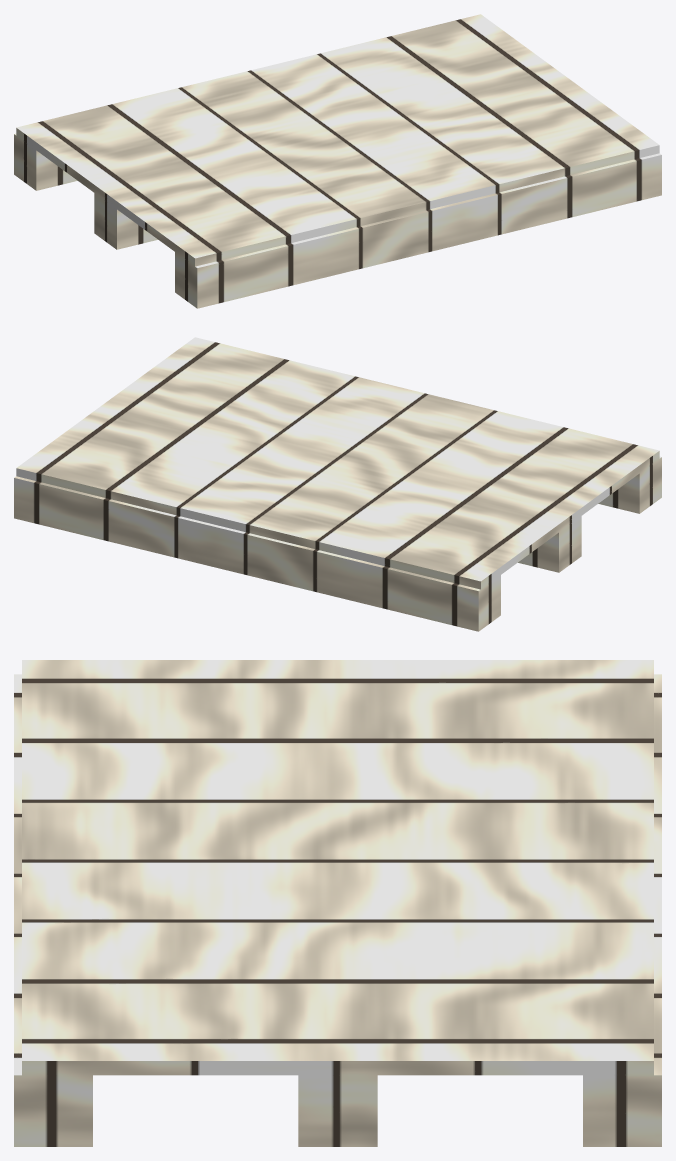
The model's file is bancale.obj.
The picture shows the model from 3 angles, top to bottom: view 1: azimuth 30°, elevation 25°; view 2: azimuth 150°, elevation 25°; view 3: azimuth 270°, elevation 25°; orthographic projection. The views are drawn at different scales.
Parts seen in each view (by area): view 1: legno_001, legno_000; view 2: legno_001, legno_000; view 3: legno_001, legno_000.
Boxes of the visible parts, x1,y1,x2,y2 form: legno_001: [16, 14, 659, 266]; legno_000: [14, 133, 661, 308]; legno_001: [16, 337, 659, 589]; legno_000: [14, 456, 661, 631]; legno_001: [22, 660, 653, 1075]; legno_000: [14, 674, 661, 1146].
Size of the model in its own units: 1.2 by 0.12 by 0.82.
Materials: 2 (2 with a texture image).
